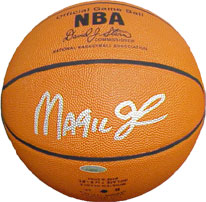basketball: (2, 1, 205, 201)
